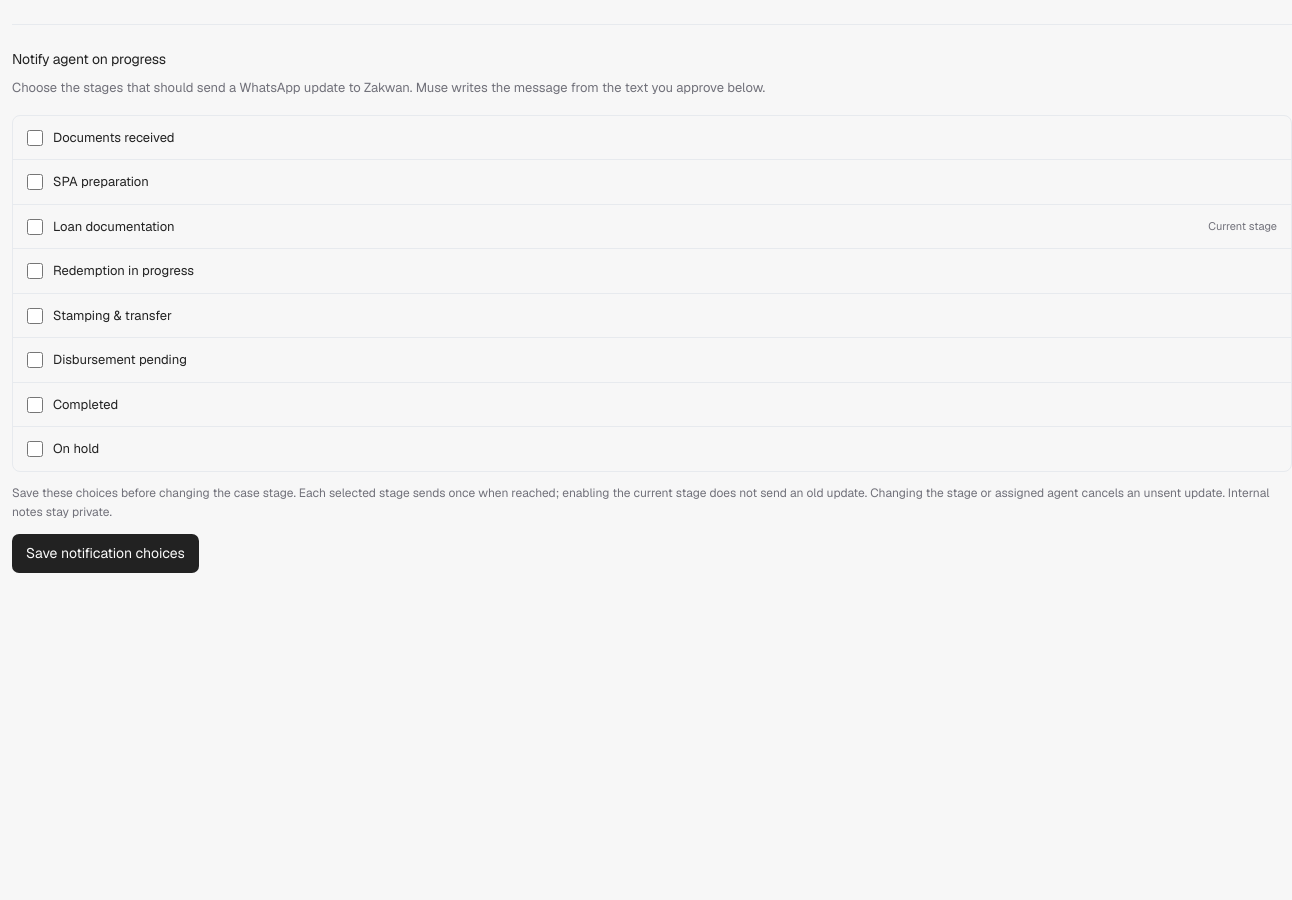
it: requires an explicit per-stage choice and saves only the clerk's approved text
Step 1. Click the checkbox labelled "Stamping & transfer" → [35, 316], box [27,308,43,324]
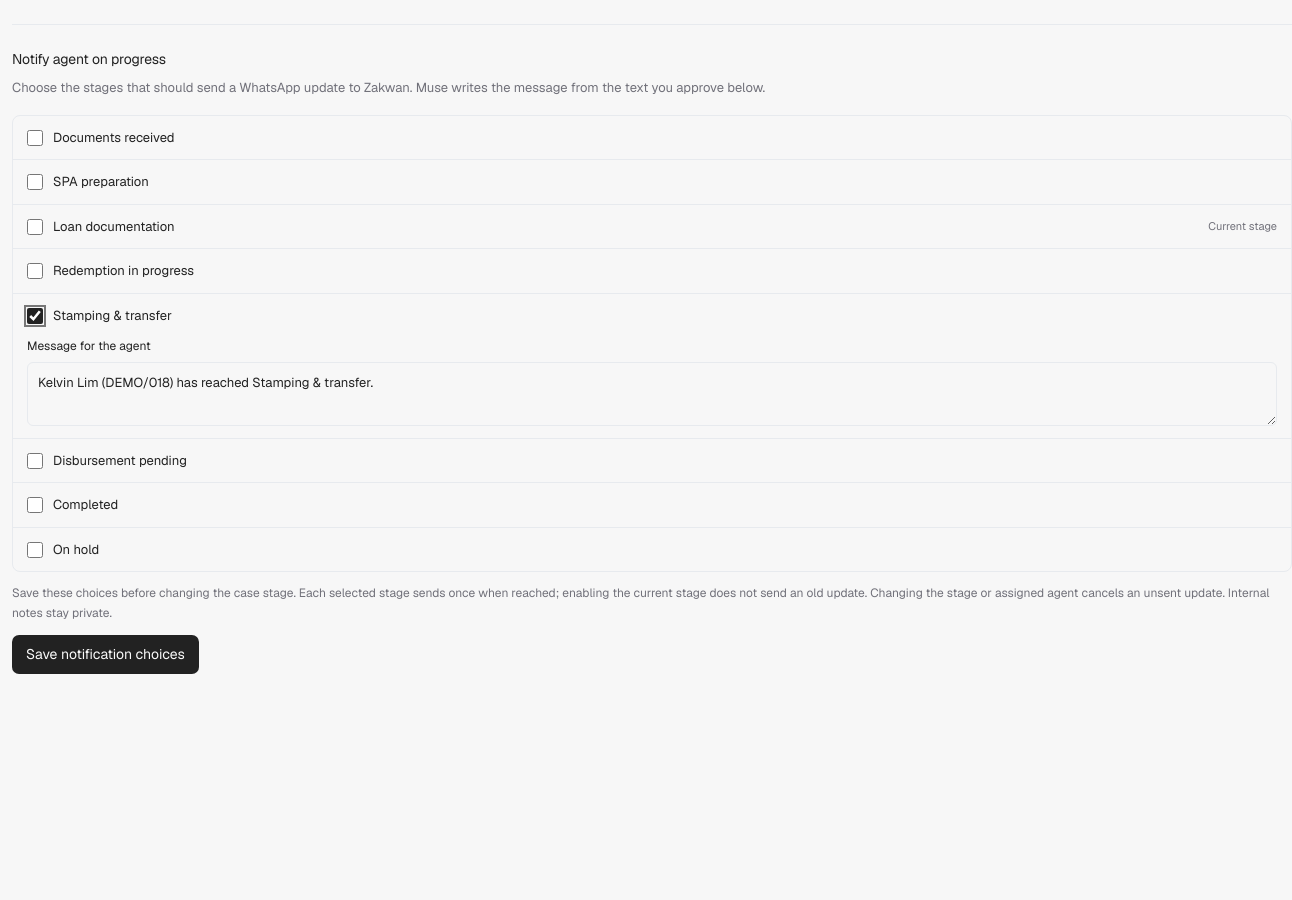
Step 2. Replace the text in the text box named "Stamping & transfer message" with "Kelvin’s case has reached stamping and transfer." → [652, 394], box [27,362,1277,426]
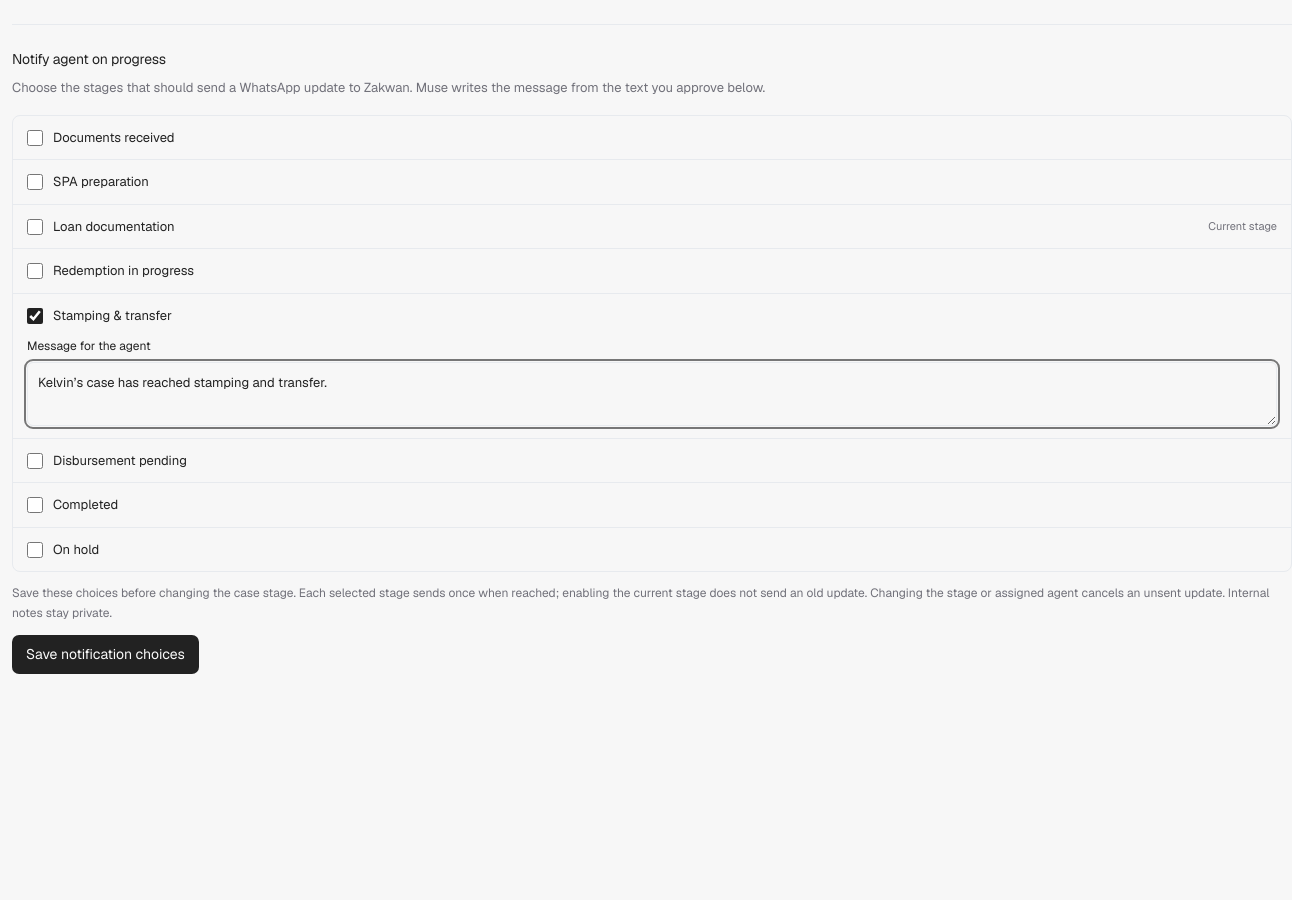
Step 3. Click the button "Save notification choices" → [105, 654], box [12,635,199,674]
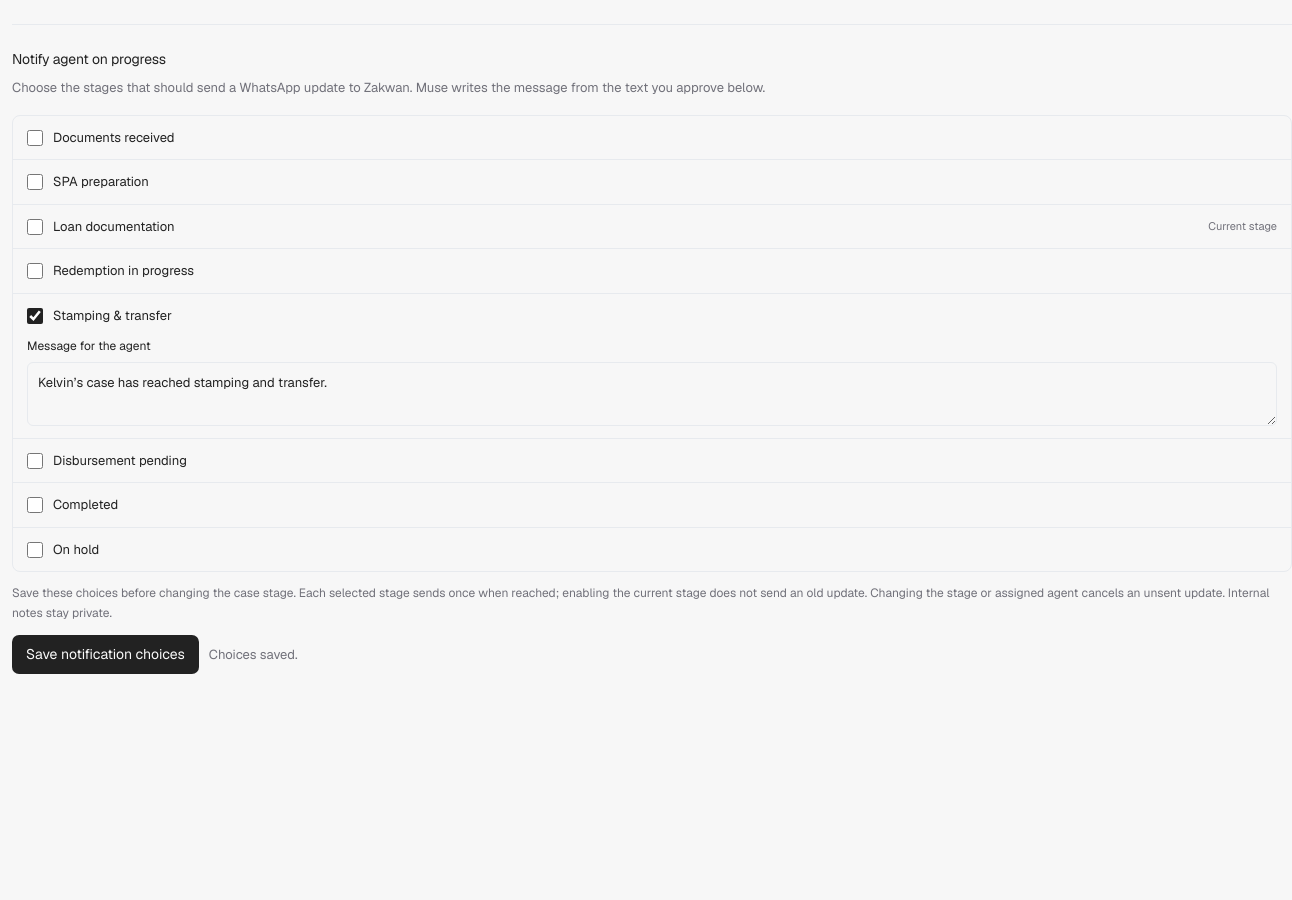
Expected: the message "Choices saved." is shown, [209,644,298,664]
